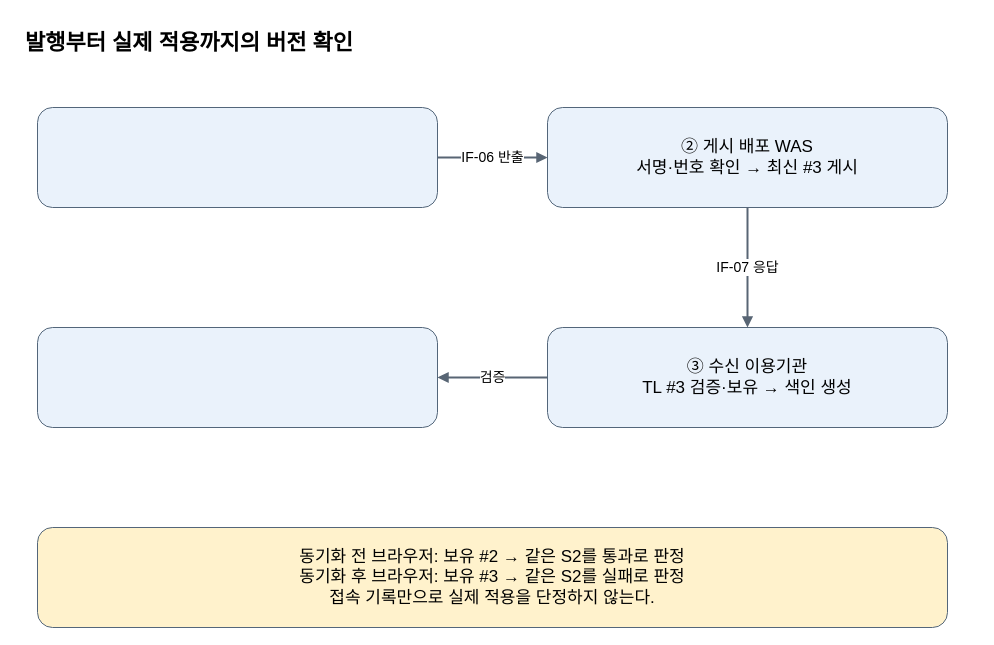
This 994x645 diagram has some shape labels left out. Here are the shapes that lost their labels. From the top down, the centre of each, then its label:
At (x=237, y=157): "① 발행 관리 시스템 스냅숏 → 편성 → 서명 → #3 확정".
At (x=237, y=377): "④ 적용 검증 결과 사용 TL #3 · S2 실패 · 정지 사유".
